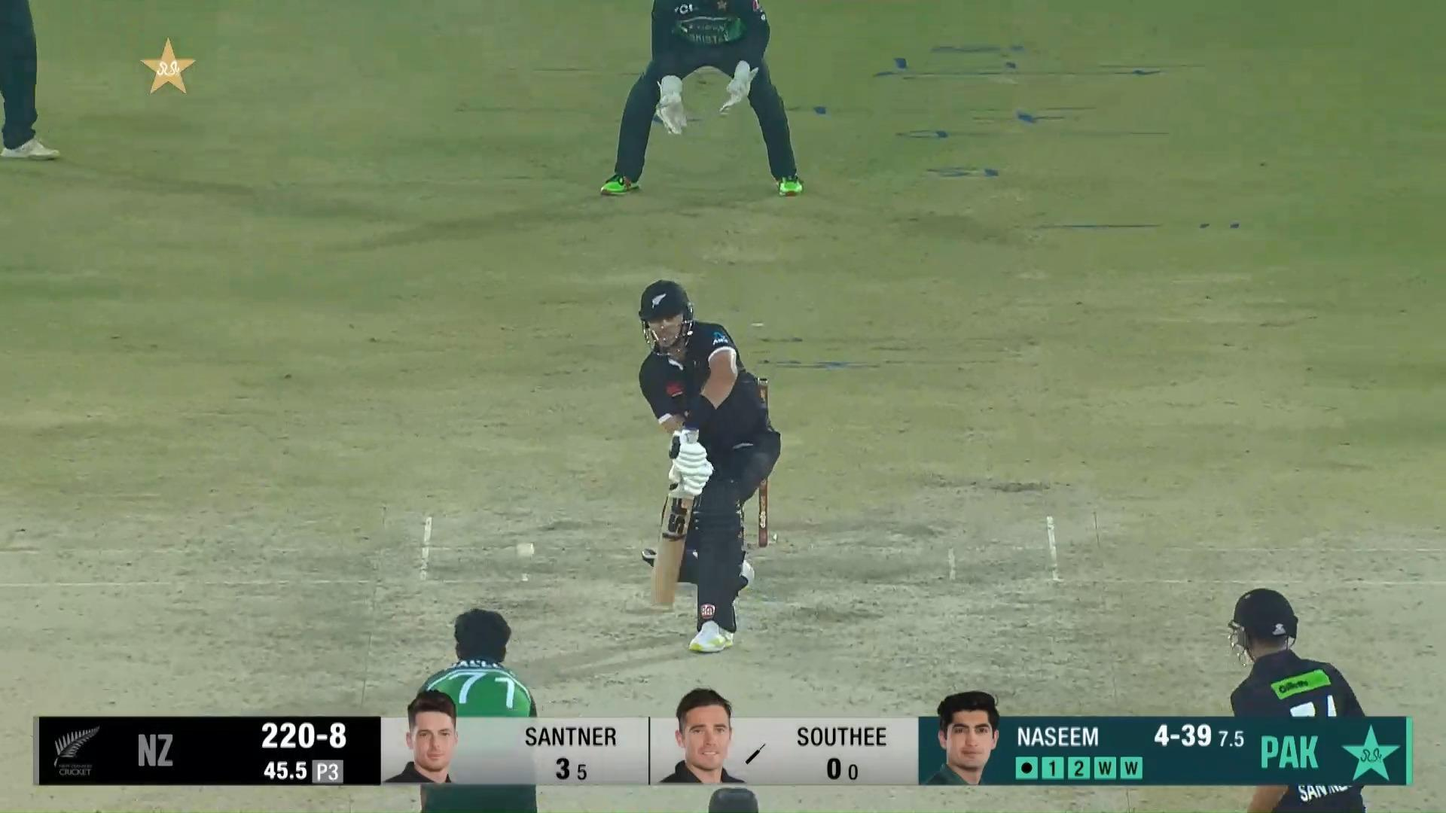BM 1: (638, 279, 781, 655)
BO: (410, 604, 543, 813)
